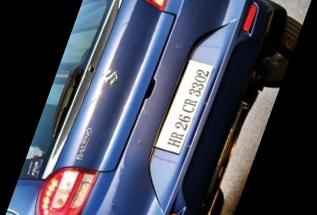plate: (140, 34, 235, 171)
